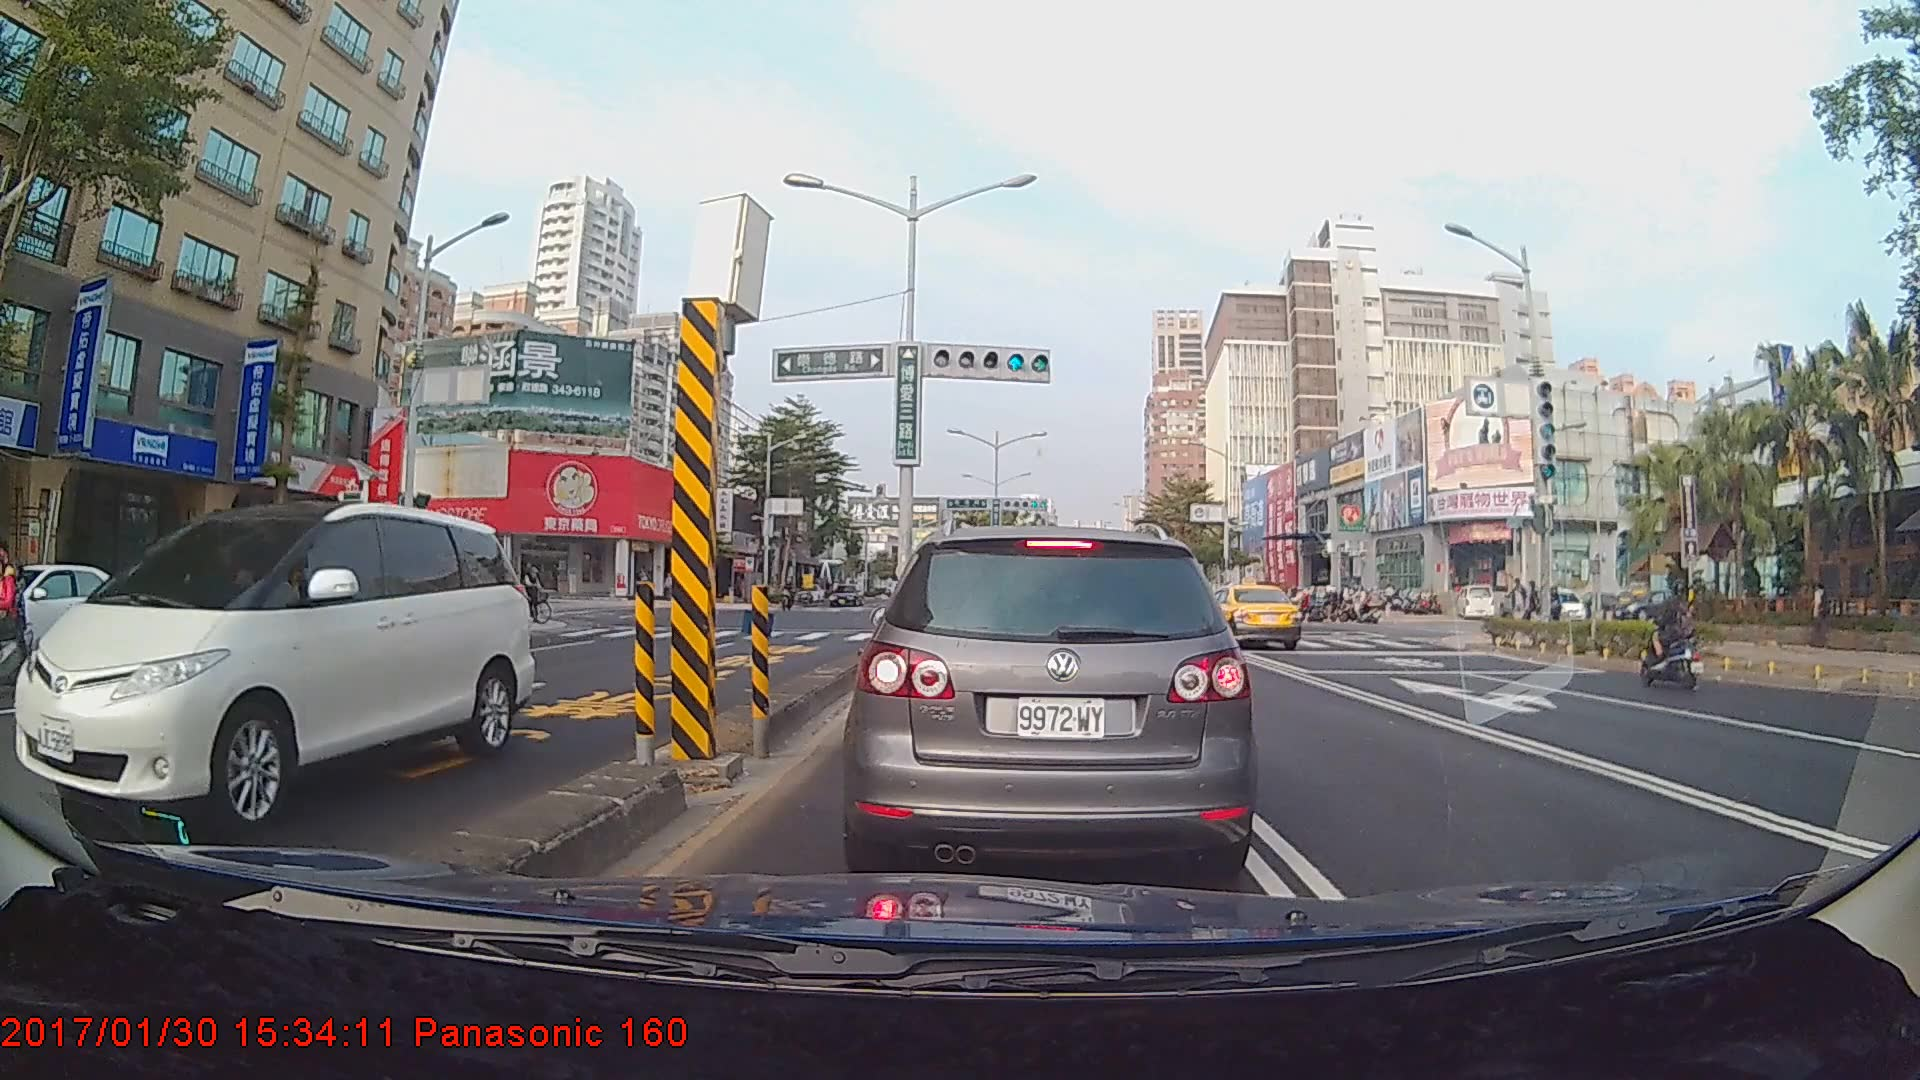pedestrian: (1808, 579, 1833, 648)
rider: (1637, 579, 1712, 694), (1, 557, 38, 695)
vehicle: (13, 498, 535, 839), (855, 523, 1246, 879), (0, 561, 158, 671), (1194, 581, 1302, 652)
